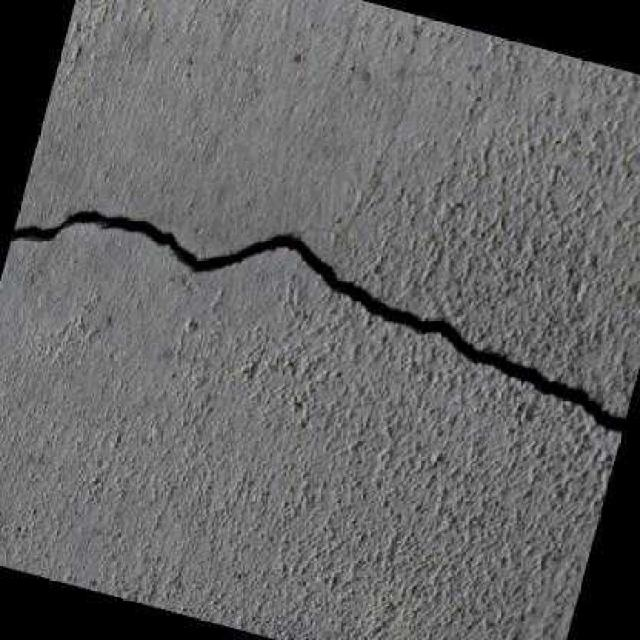D00: (15, 200, 625, 438)
